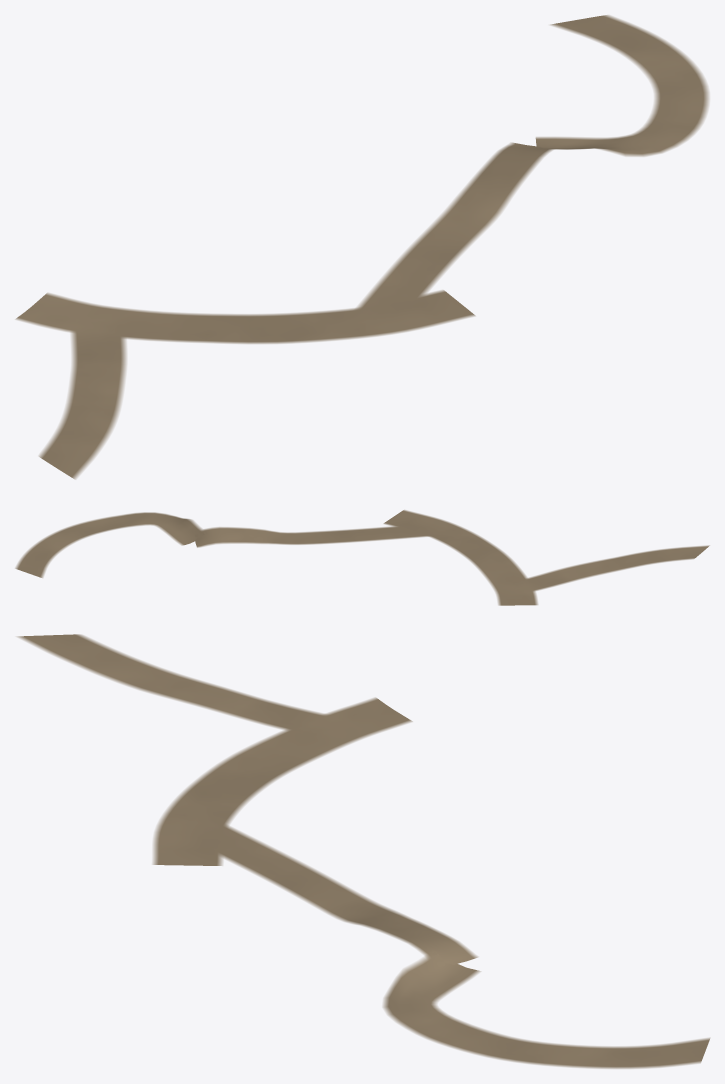
The model's file is paths_meadow.glb.
The picture shows the model from 3 angles, top to bottom: view 1: azimuth 30°, elevation 25°; view 2: azimuth 150°, elevation 25°; view 3: azimuth 270°, elevation 25°; orthographic projection. The views are drawn at different scales.
Visible parts, largest first — view 1: path_to_meadow, path_rim_walk, path_meadow_hut, path_meadow_lake; view 2: path_to_meadow, path_rim_walk, path_meadow_hut, path_meadow_lake; view 3: path_to_meadow, path_rim_walk, path_meadow_hut, path_meadow_lake.
Boxes of the visible parts, x1,y1,x2,y2 form: path_to_meadow: (15, 290, 475, 343); path_rim_walk: (535, 15, 709, 156); path_meadow_hut: (354, 142, 554, 322); path_meadow_lake: (39, 320, 126, 479); path_to_meadow: (383, 510, 538, 605); path_rim_walk: (15, 512, 207, 577); path_meadow_hut: (195, 525, 441, 547); path_meadow_lake: (508, 545, 709, 594); path_to_meadow: (152, 697, 412, 865); path_rim_walk: (383, 950, 710, 1068); path_meadow_hut: (173, 821, 478, 966); path_meadow_lake: (16, 634, 348, 738).
Bounding box in the file's own units: 19.43 × 0.3965 × 13.17.
